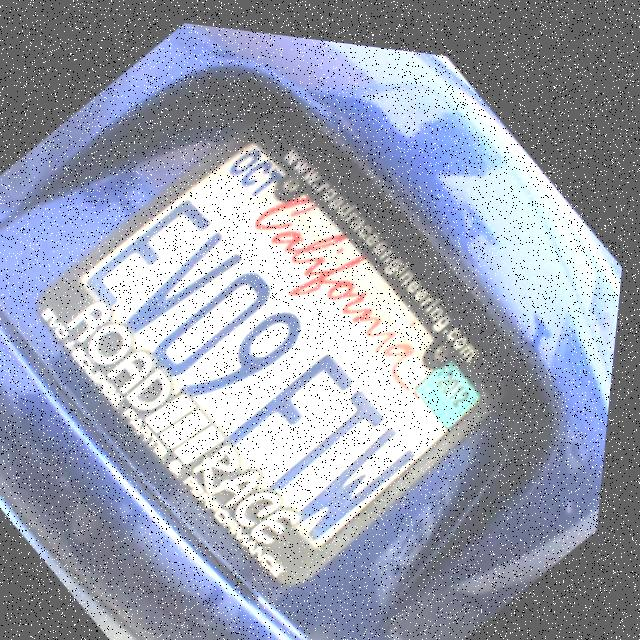license_plate: (25, 75, 542, 602)
